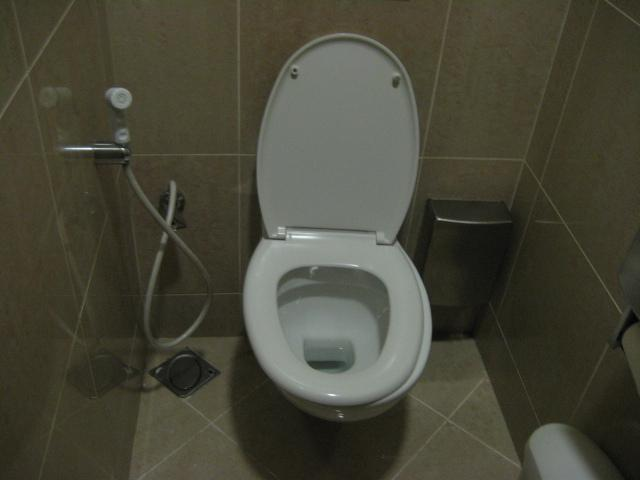Sanitario: (235, 25, 440, 435)
